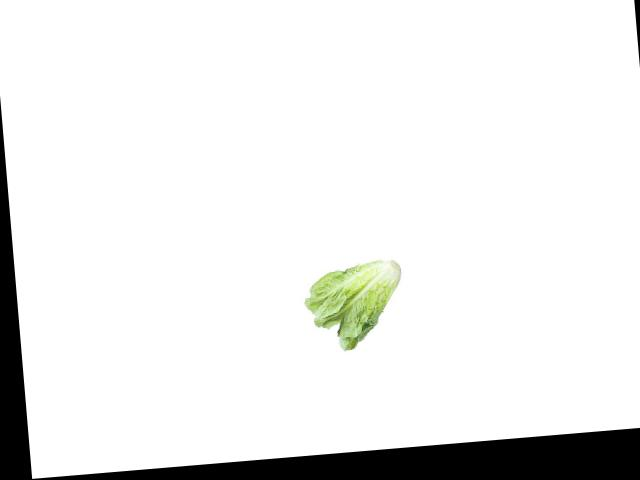lettuce: (301, 253, 404, 359)
